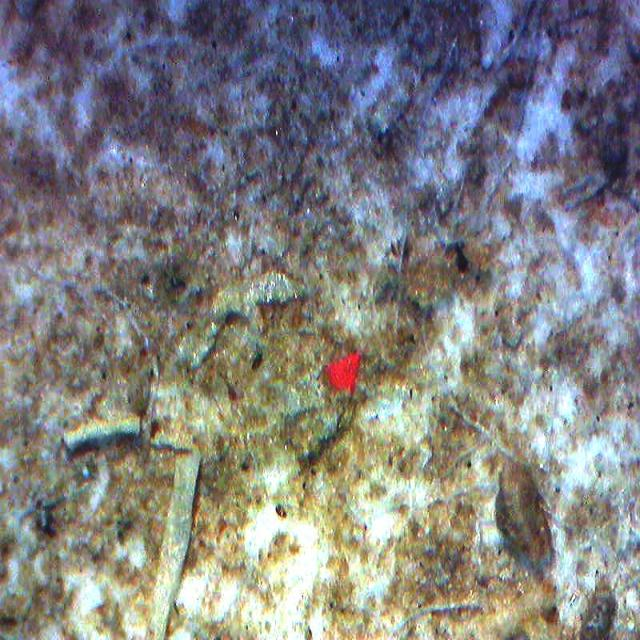microplastic: (327, 351, 362, 394)
